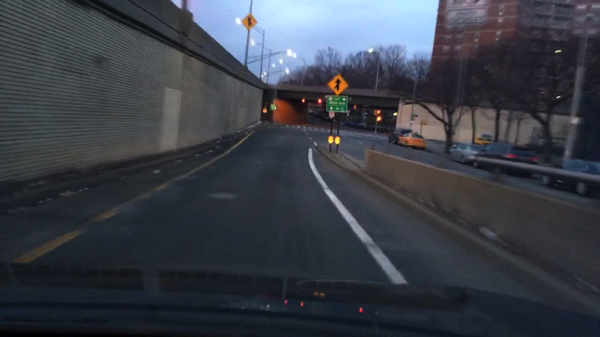car: (473, 143, 542, 177), (542, 158, 600, 194), (448, 141, 486, 163), (400, 132, 427, 152), (388, 127, 411, 144), (476, 132, 496, 145), (377, 127, 394, 134), (359, 123, 372, 131), (374, 125, 383, 135), (321, 115, 330, 123), (314, 110, 321, 118), (333, 119, 342, 124), (348, 122, 357, 127), (308, 110, 316, 114)
traffic light: (420, 119, 428, 125), (318, 97, 323, 105), (372, 108, 377, 116), (377, 117, 382, 123), (302, 96, 305, 104), (377, 110, 381, 115)
traffic sign: (326, 74, 348, 95), (326, 95, 347, 112), (240, 14, 258, 29), (269, 103, 277, 110), (262, 108, 267, 114)
